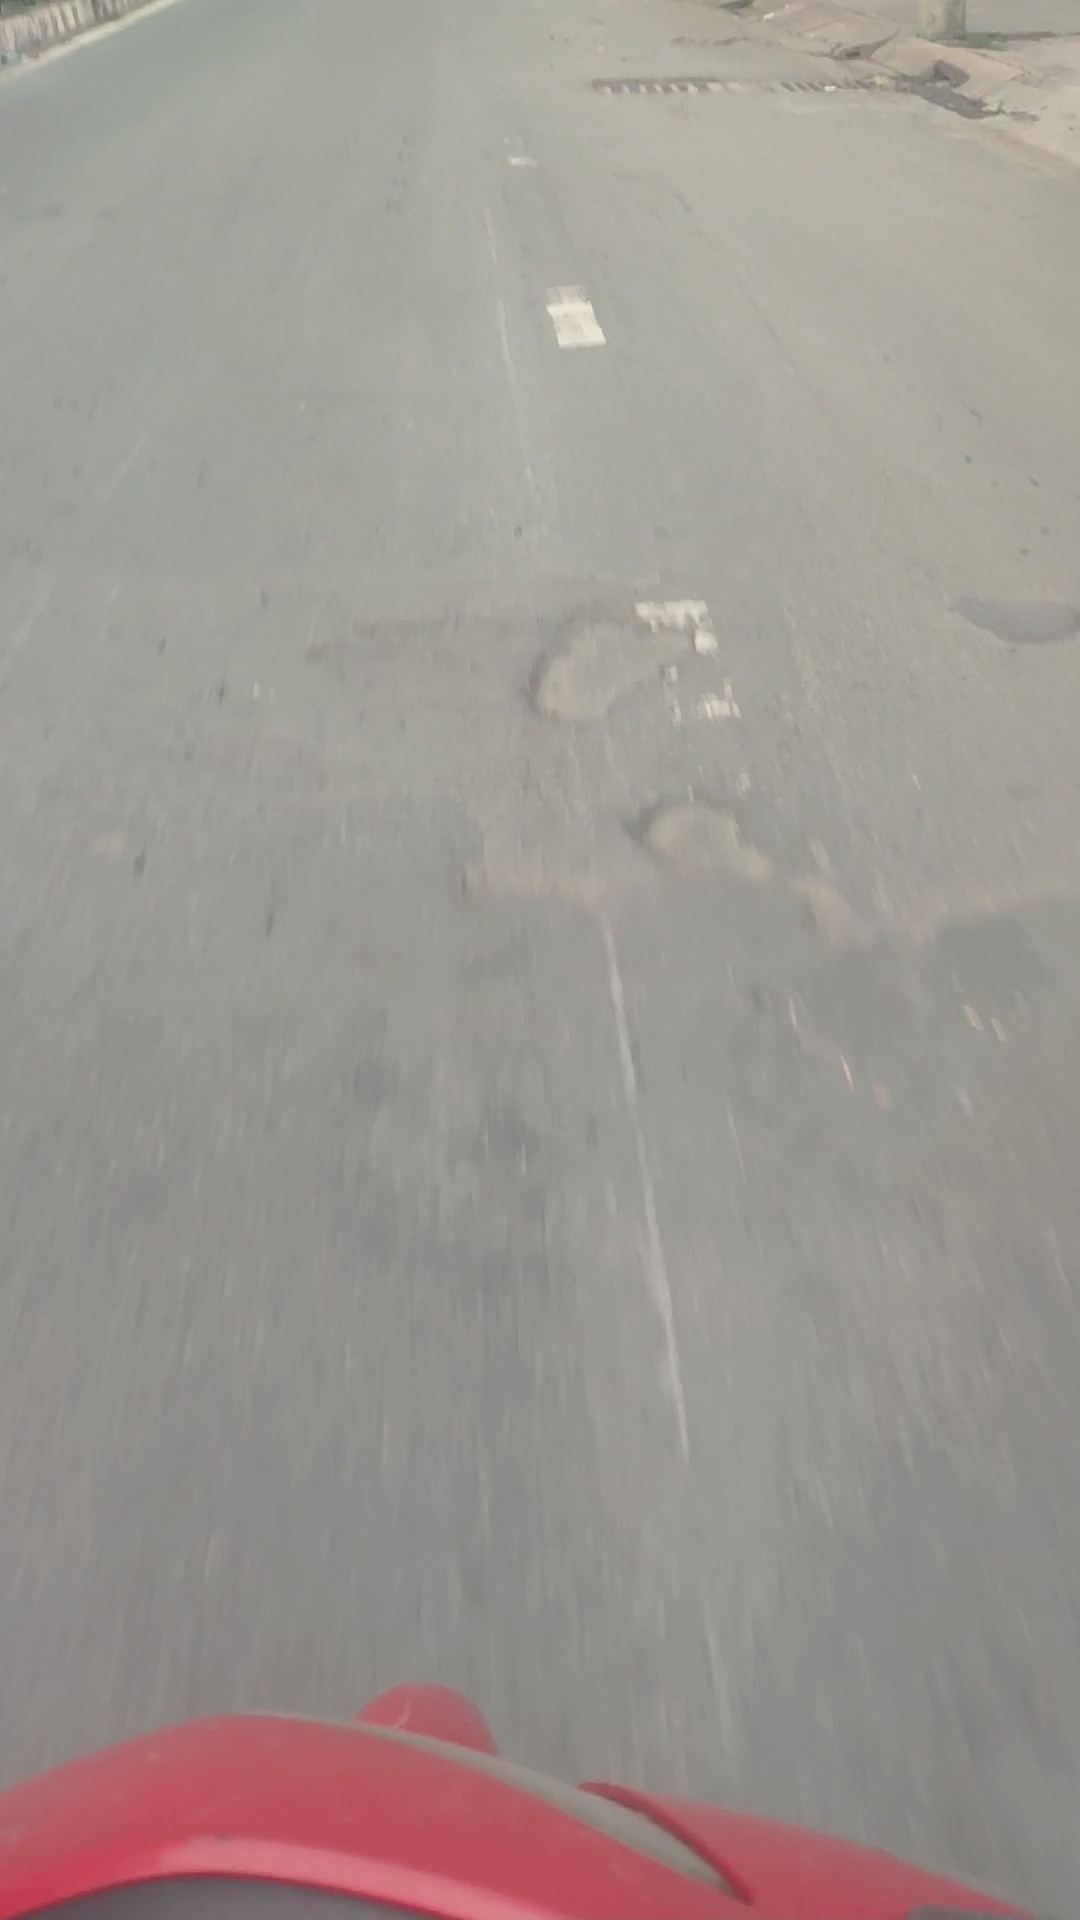hole: (634, 796, 905, 945), (534, 607, 715, 713)
